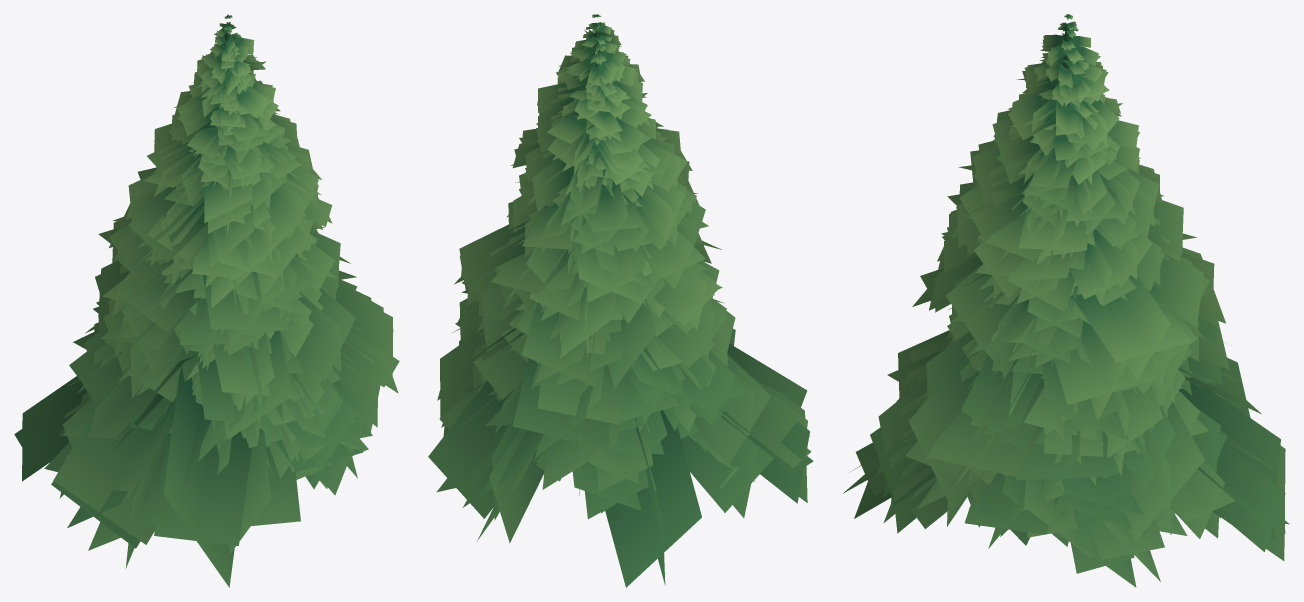
File: pine_b.glb
3 renders of one model, left to right at view 1: azimuth 30°, elevation 25°; view 2: azimuth 150°, elevation 25°; view 3: azimuth 270°, elevation 25°, orthographic. The views are drawn at different scales.
Parts seen in each view (by area): view 1: NeedleCards; view 2: NeedleCards; view 3: NeedleCards.
Part boxes in pixels (x1,y1,x2,y2): NeedleCards: (14, 14, 399, 587); NeedleCards: (428, 14, 813, 587); NeedleCards: (843, 14, 1289, 587).
Size of the model in its own units: 10.03 by 14.1 by 10.26.
